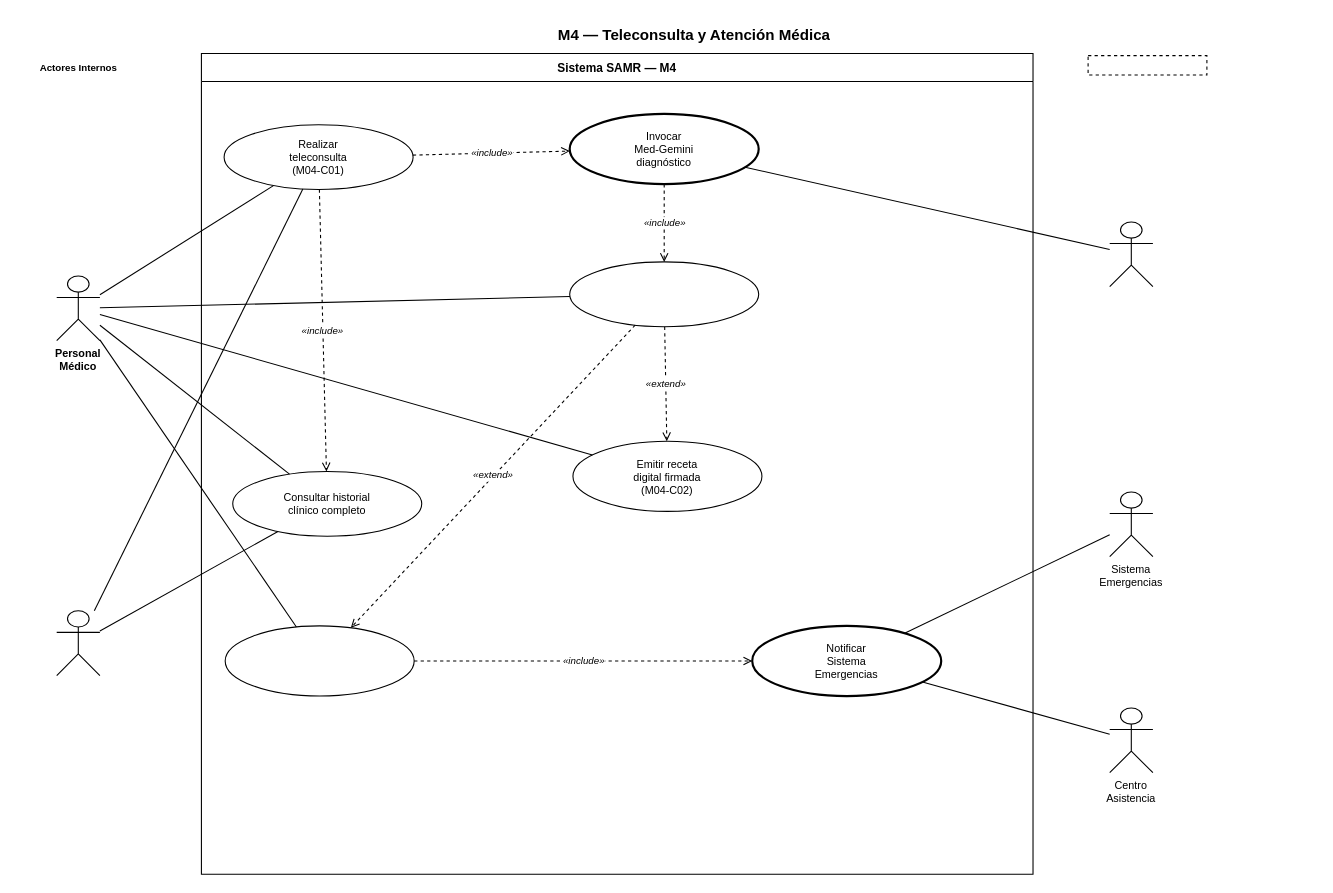
The diagram is 1333 pixels wide and 893 high, and some of its shapes have lost their labels. The shapes that lost their labels are listed below. From the top down, each one's centre as x and y in pixels, then its label:
At point (1147, 65): "Actores Externos".
At point (1131, 254): "Med-Gemini".
At point (664, 294): "Validar sugerencia de Med-Gemini".
At point (78, 643): "Paciente ()".
At point (319, 660): "Derivar emergencia presencial (M04-C03)".
